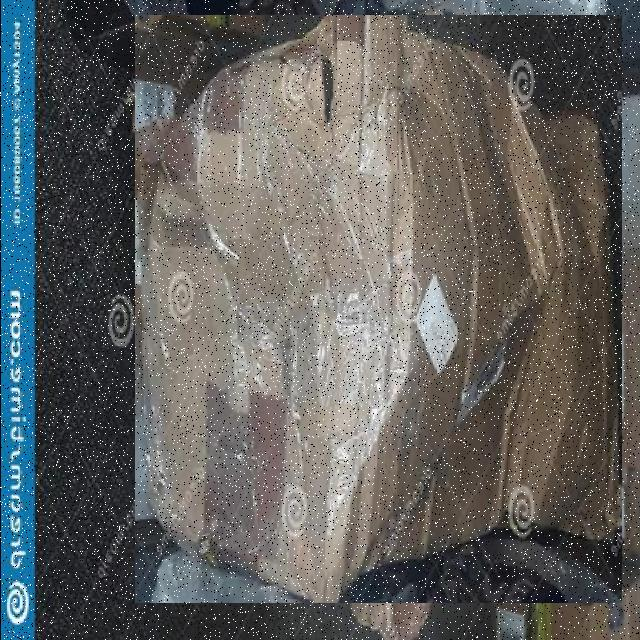defect: (134, 15, 621, 603)
